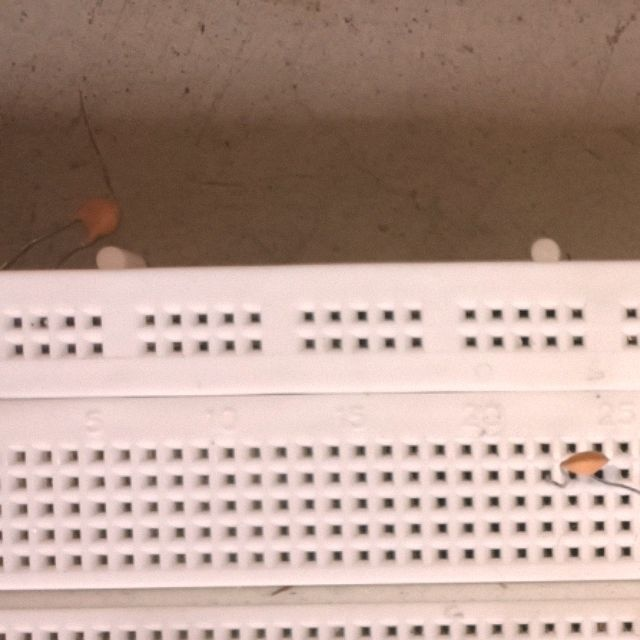capacitor: (72, 196, 123, 250), (558, 450, 610, 478)
